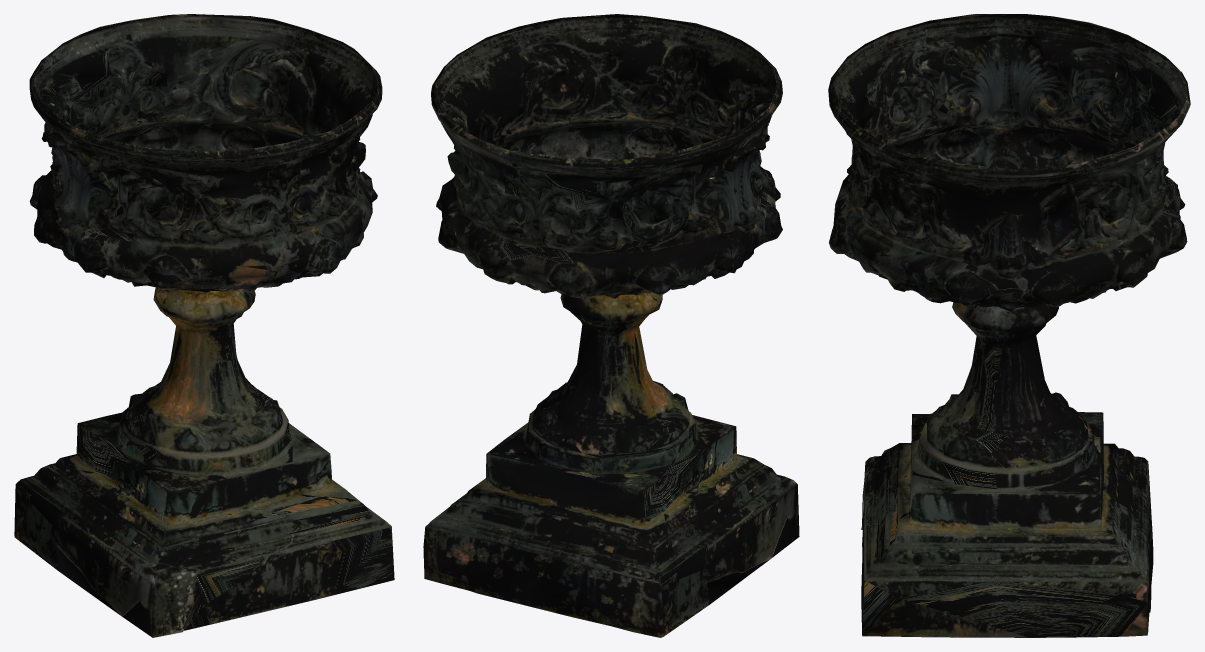
File: ornamental_urn_planter.glb
The picture shows the model from 3 angles, left to right: view 1: azimuth 30°, elevation 25°; view 2: azimuth 150°, elevation 25°; view 3: azimuth 270°, elevation 25°; orthographic projection. The views are drawn at different scales.
Parts seen in each view (by area): view 1: Object_2; view 2: Object_2; view 3: Object_2.
Part boxes in pixels (<box>): Object_2: <box>14,14,394,637</box>; Object_2: <box>423,14,799,637</box>; Object_2: <box>828,14,1190,637</box>.
Size of the model in its own units: 0.9552 by 1.4 by 0.9364.
Materials: 1 (1 with a texture image).
